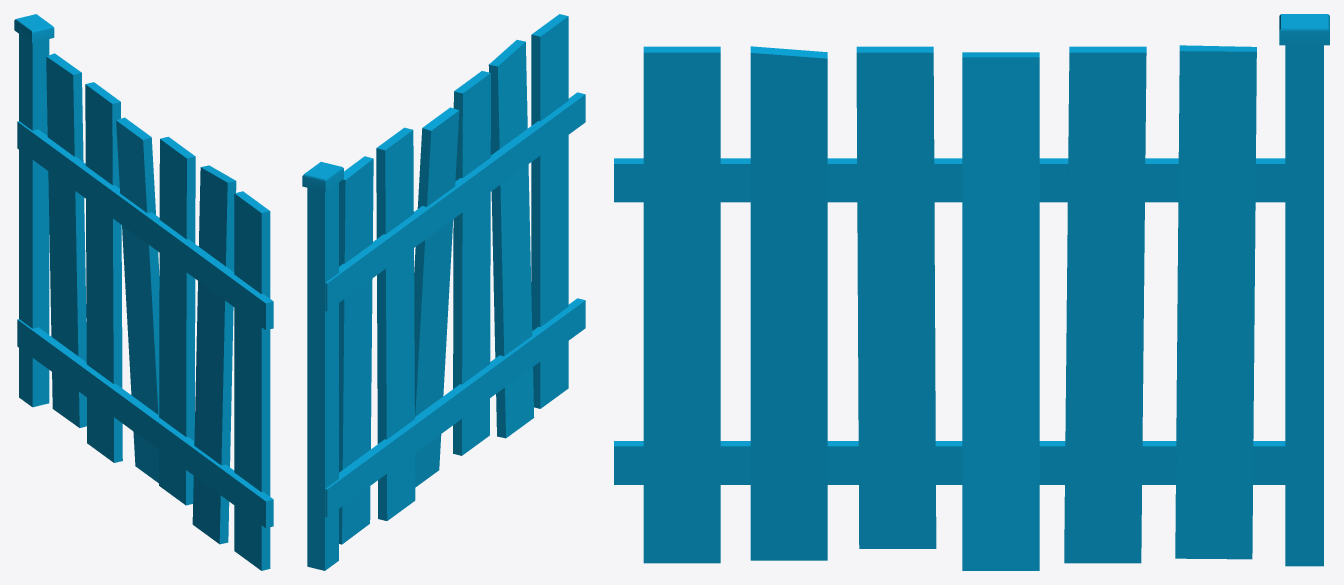
File: Garden_Fence_01_Lod0.fbx
The picture shows the model from 3 angles, left to right: view 1: azimuth 30°, elevation 25°; view 2: azimuth 150°, elevation 25°; view 3: azimuth 270°, elevation 25°; orthographic projection. The views are drawn at different scales.
Visible parts, largest first — view 1: Garden_Fence_01_Lod0; view 2: Garden_Fence_01_Lod0; view 3: Garden_Fence_01_Lod0.
Boxes of the visible parts, x1,y1,x2,y2 form: Garden_Fence_01_Lod0: [14, 14, 273, 570]; Garden_Fence_01_Lod0: [302, 14, 585, 570]; Garden_Fence_01_Lod0: [614, 14, 1329, 570].
Bounding box in the file's own units: 9.77 × 126 × 151.
